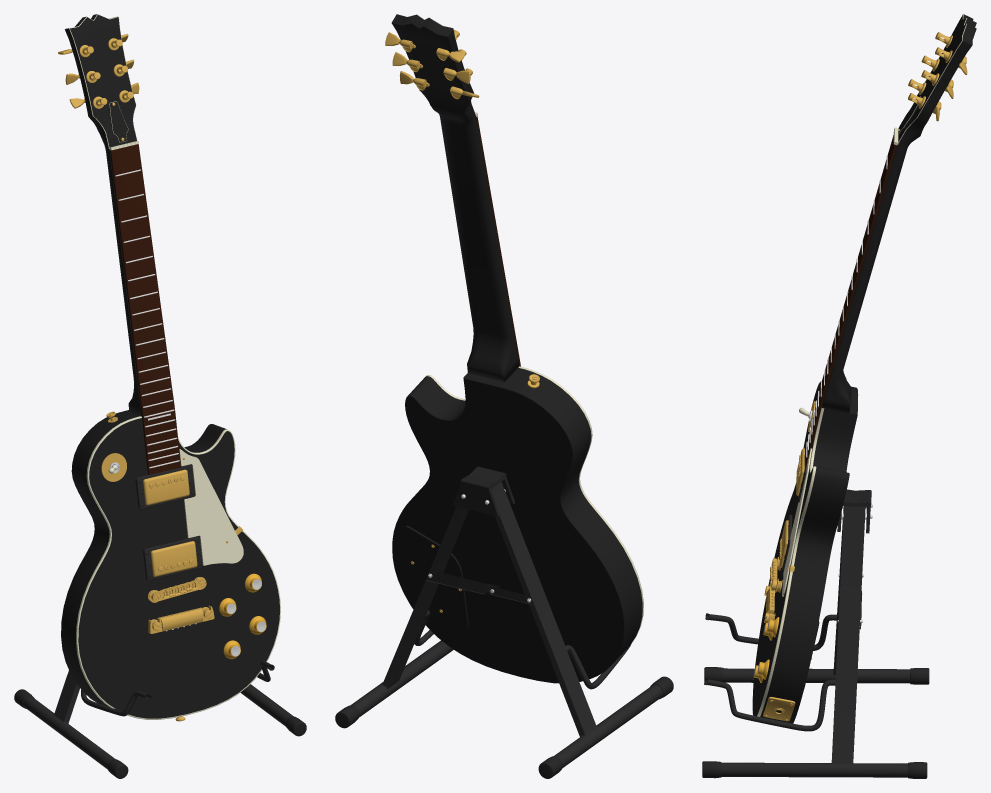
File: LesPaul.glb
The picture shows the model from 3 angles, left to right: view 1: azimuth 30°, elevation 25°; view 2: azimuth 150°, elevation 25°; view 3: azimuth 270°, elevation 25°; orthographic projection. The views are drawn at different scales.
Visible parts, largest first — view 1: Corpo, Escala, Braco, SuporteGuitarra, Escudo, Captador.1, Captador.2, Ponte, Tarraxa, Traste, Chave, ProtetorTensor; view 2: Corpo, SuporteGuitarra, Braco, CapaTraseira, Tarraxa; view 3: SuporteGuitarra, Corpo, Braco, Escala, Tarraxa, Escudo, Ponte, Traste, Jack.
Part boxes in pixels (x1,y1,x2,y2): Corpo: [61, 410, 280, 719]; Escala: [110, 144, 180, 474]; Braco: [65, 14, 141, 416]; SuporteGuitarra: [14, 661, 306, 778]; Escudo: [179, 449, 243, 565]; Captador.1: [143, 536, 202, 580]; Captador.2: [135, 465, 195, 509]; Ponte: [148, 577, 214, 633]; Tarraxa: [58, 33, 139, 108]; Traste: [115, 169, 179, 468]; Chave: [101, 453, 126, 481]; ProtetorTensor: [109, 101, 128, 142]; Corpo: [392, 366, 643, 683]; SuporteGuitarra: [335, 466, 673, 778]; Braco: [391, 14, 519, 381]; CapaTraseira: [404, 525, 469, 628]; Tarraxa: [385, 30, 479, 99]; SuporteGuitarra: [702, 489, 929, 778]; Corpo: [752, 381, 858, 723]; Braco: [821, 14, 976, 412]; Escala: [805, 135, 897, 465]; Tarraxa: [908, 32, 967, 121]; Escudo: [782, 448, 811, 596]; Ponte: [764, 557, 782, 622]; Traste: [806, 156, 887, 457]; Jack: [763, 697, 795, 721].
Size of the model in its own units: 1.37 by 4.24 by 1.49.
